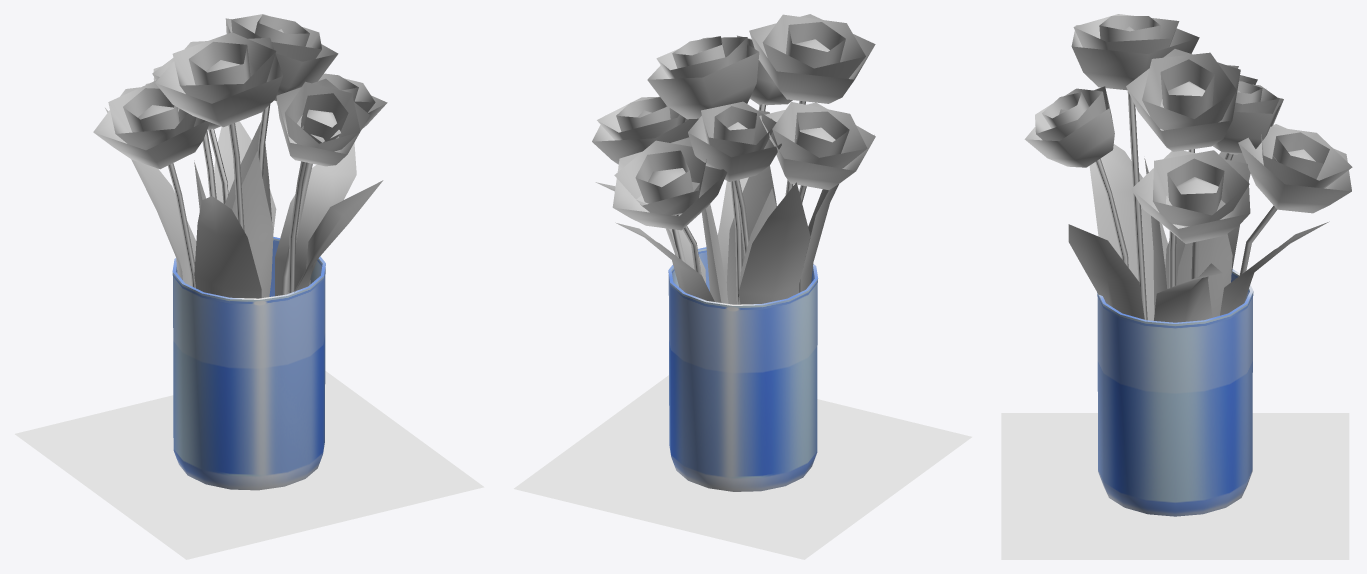
File: plant_004.FBX
3 views of the same model, side by side, from view 1: azimuth 30°, elevation 25°; view 2: azimuth 150°, elevation 25°; view 3: azimuth 270°, elevation 25° (orthographic). The views are drawn at different scales.
Visible parts, largest first — view 1: plant_004_01, plant_004_shadow, plant_004_02; view 2: plant_004_01, plant_004_shadow, plant_004_02; view 3: plant_004_01, plant_004_shadow, plant_004_02.
Boxes of the visible parts, x1=… form: plant_004_01: x1=93, y1=14, x2=387, y2=298; plant_004_shadow: x1=15, y1=371, x2=484, y2=559; plant_004_02: x1=172, y1=237, x2=325, y2=490; plant_004_01: x1=592, y1=14, x2=875, y2=304; plant_004_shadow: x1=514, y1=375, x2=971, y2=559; plant_004_02: x1=668, y1=247, x2=818, y2=491; plant_004_01: x1=1024, y1=14, x2=1352, y2=322; plant_004_shadow: x1=1001, y1=413, x2=1349, y2=559; plant_004_02: x1=1097, y1=269, x2=1253, y2=516.
Size of the model in its own units: 384 by 539 by 388.
